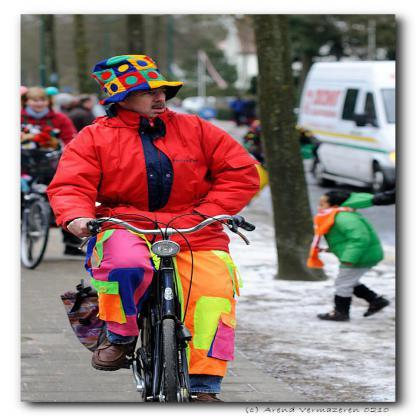Ambulance - v1 Ambulance last generate: (292, 57, 408, 210)
